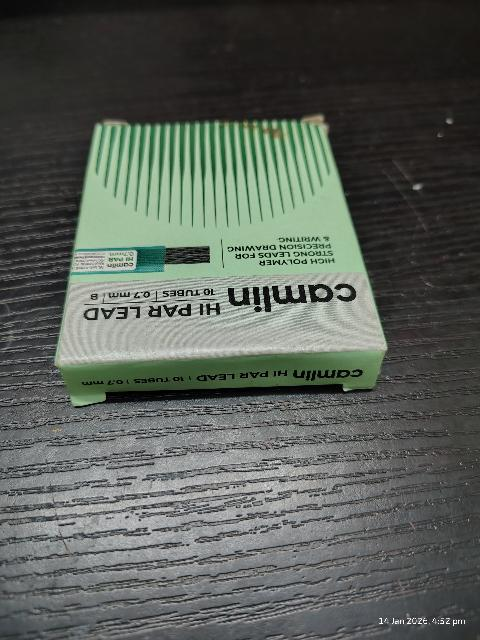camlin lids: (65, 118, 383, 396)
